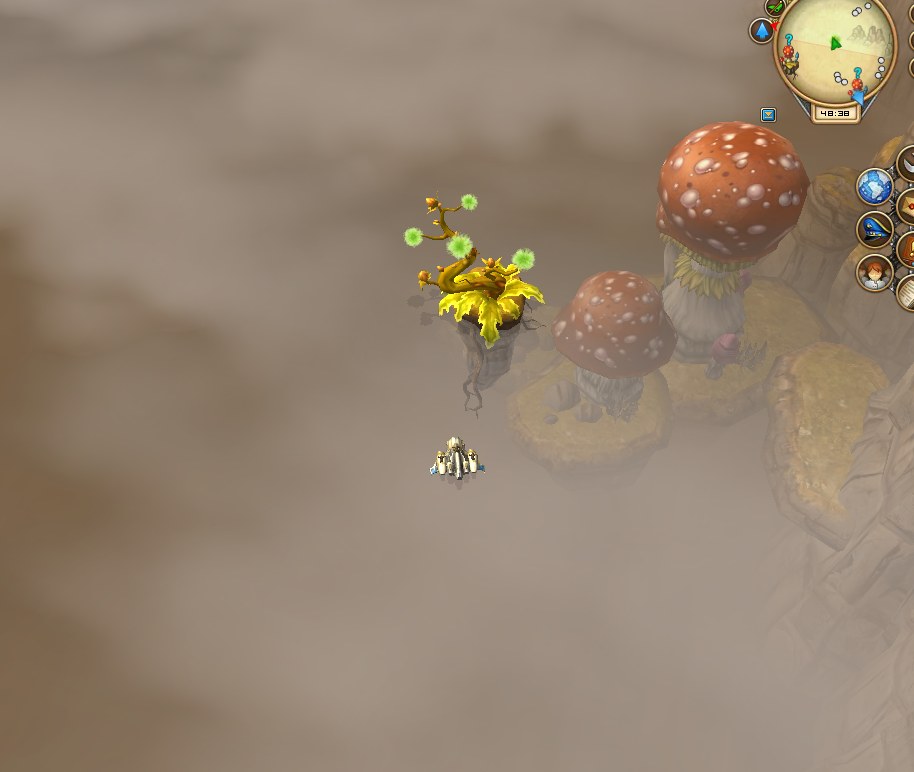dandelion-full: (395, 175, 552, 391)
